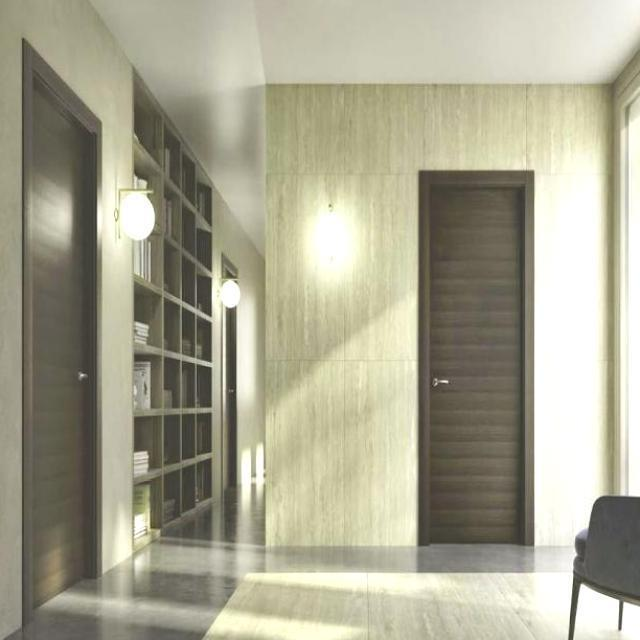door: (5, 37, 106, 618), (418, 169, 532, 546)
